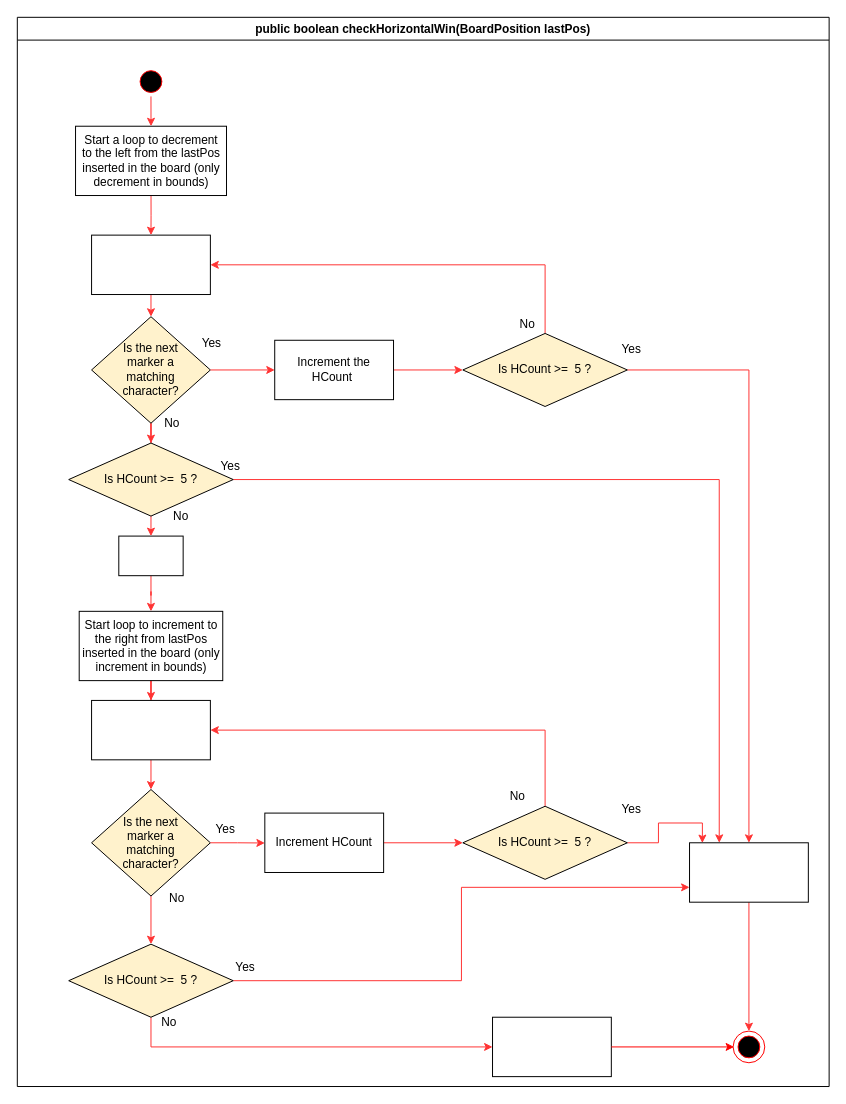
This 846x1104 diagram has some shape labels left out. The box of each missing label's shape, as (x1, y1, x2, y2) in pixels:
Decrement one space to the left: (91, 234, 210, 295)
Exit loop: (118, 535, 183, 576)
Increment one space to the right: (91, 699, 210, 760)
Return False: (492, 1016, 611, 1077)
Return True: (689, 842, 808, 902)
